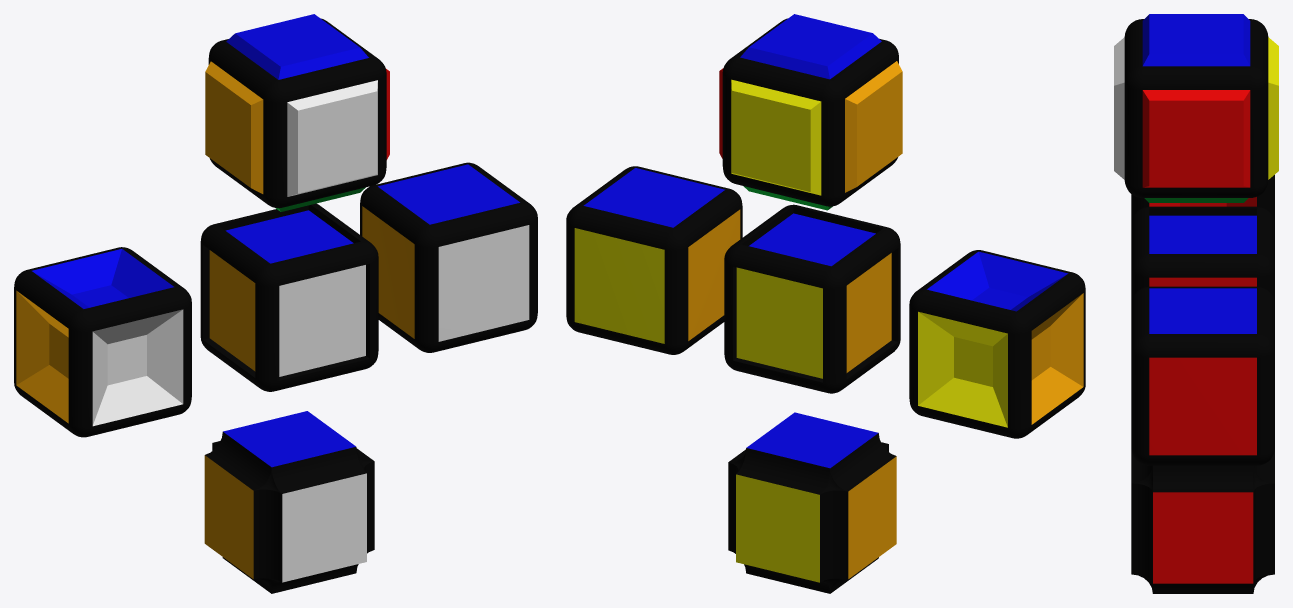
The model's file is Dice (1).fbx.
The picture shows the model from 3 angles, left to right: view 1: azimuth 30°, elevation 25°; view 2: azimuth 150°, elevation 25°; view 3: azimuth 270°, elevation 25°; orthographic projection. The views are drawn at different scales.
Visible parts, largest first — view 1: pSphere14, pSphere13, pSphere11, pSphere12, pCube1; view 2: pSphere14, pSphere11, pSphere13, pSphere12, pCube1; view 3: pSphere14, pSphere12, pCube1, pSphere11, pSphere13.
Boxes of the visible parts, x1,y1,x2,y2 form: pSphere14: [205, 14, 389, 211]; pSphere13: [14, 247, 191, 437]; pSphere11: [200, 203, 378, 391]; pSphere12: [360, 162, 537, 352]; pCube1: [204, 411, 374, 593]; pSphere14: [719, 14, 902, 210]; pSphere11: [724, 204, 900, 393]; pSphere13: [909, 250, 1085, 438]; pSphere12: [566, 166, 742, 354]; pCube1: [728, 412, 896, 593]; pSphere14: [1114, 14, 1278, 202]; pSphere12: [1131, 286, 1274, 465]; pCube1: [1131, 449, 1274, 593]; pSphere11: [1131, 206, 1274, 302]; pSphere13: [1131, 175, 1274, 222].
Size of the model in its own units: 30.88 by 33.26 by 9.18.
